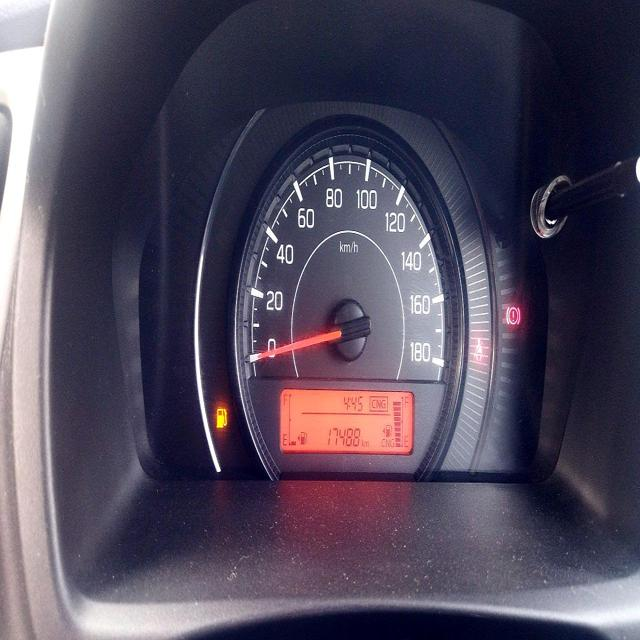odometer: (324, 424, 362, 451)
